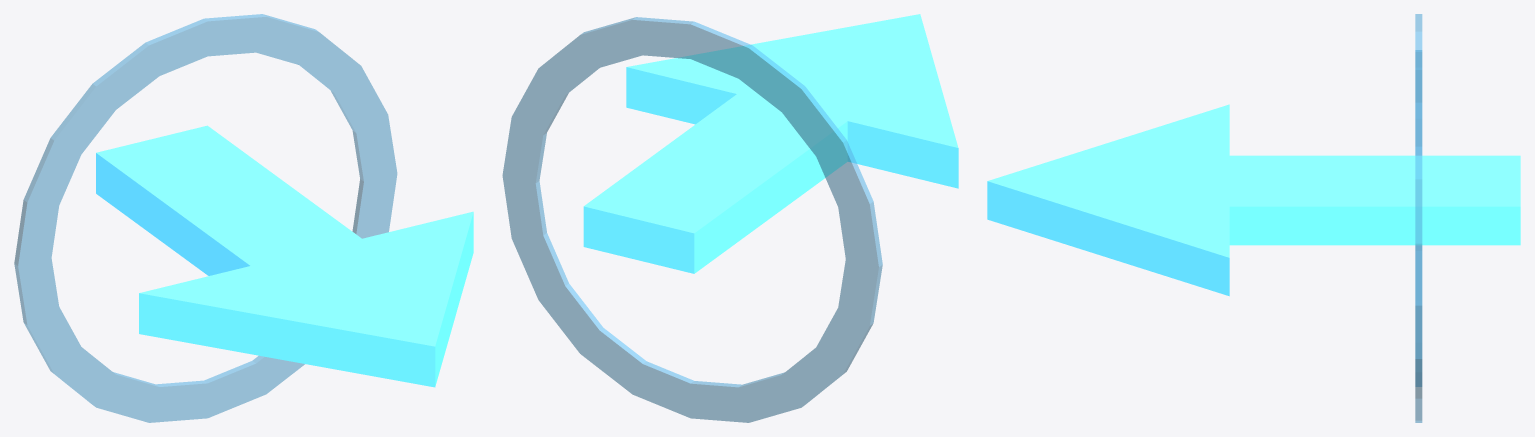
Rendered from arrow.glb.
3 renders of one model, left to right at view 1: azimuth 30°, elevation 25°; view 2: azimuth 150°, elevation 25°; view 3: azimuth 270°, elevation 25°, orthographic. The views are drawn at different scales.
Visible parts, largest first — view 1: NavArrow_Chevron, NavArrow_GroundRing; view 2: NavArrow_Chevron, NavArrow_GroundRing; view 3: NavArrow_Chevron, NavArrow_GroundRing.
Part boxes in pixels (<box>): NavArrow_Chevron: <box>96,125,473,387</box>; NavArrow_GroundRing: <box>14,14,397,422</box>; NavArrow_Chevron: <box>583,14,958,273</box>; NavArrow_GroundRing: <box>502,17,882,422</box>; NavArrow_Chevron: <box>987,104,1520,296</box>; NavArrow_GroundRing: <box>1415,14,1422,422</box>.
Size of the model in its own units: 0.34 by 0.34 by 0.44.
